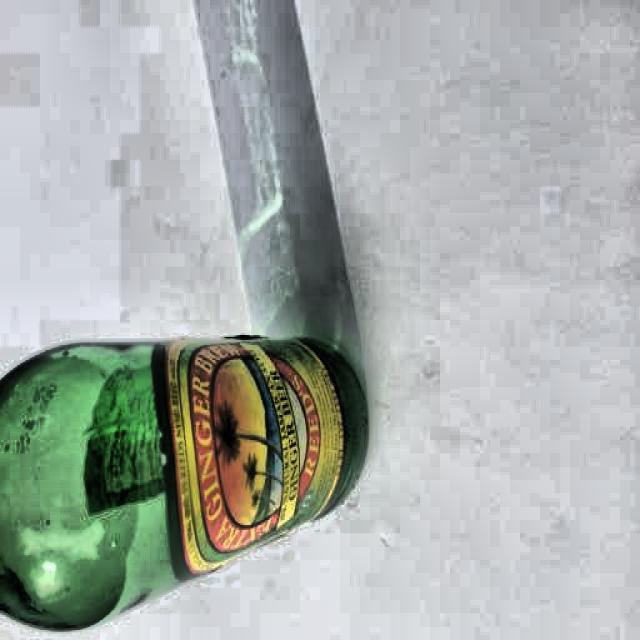glass: (0, 332, 374, 630)
